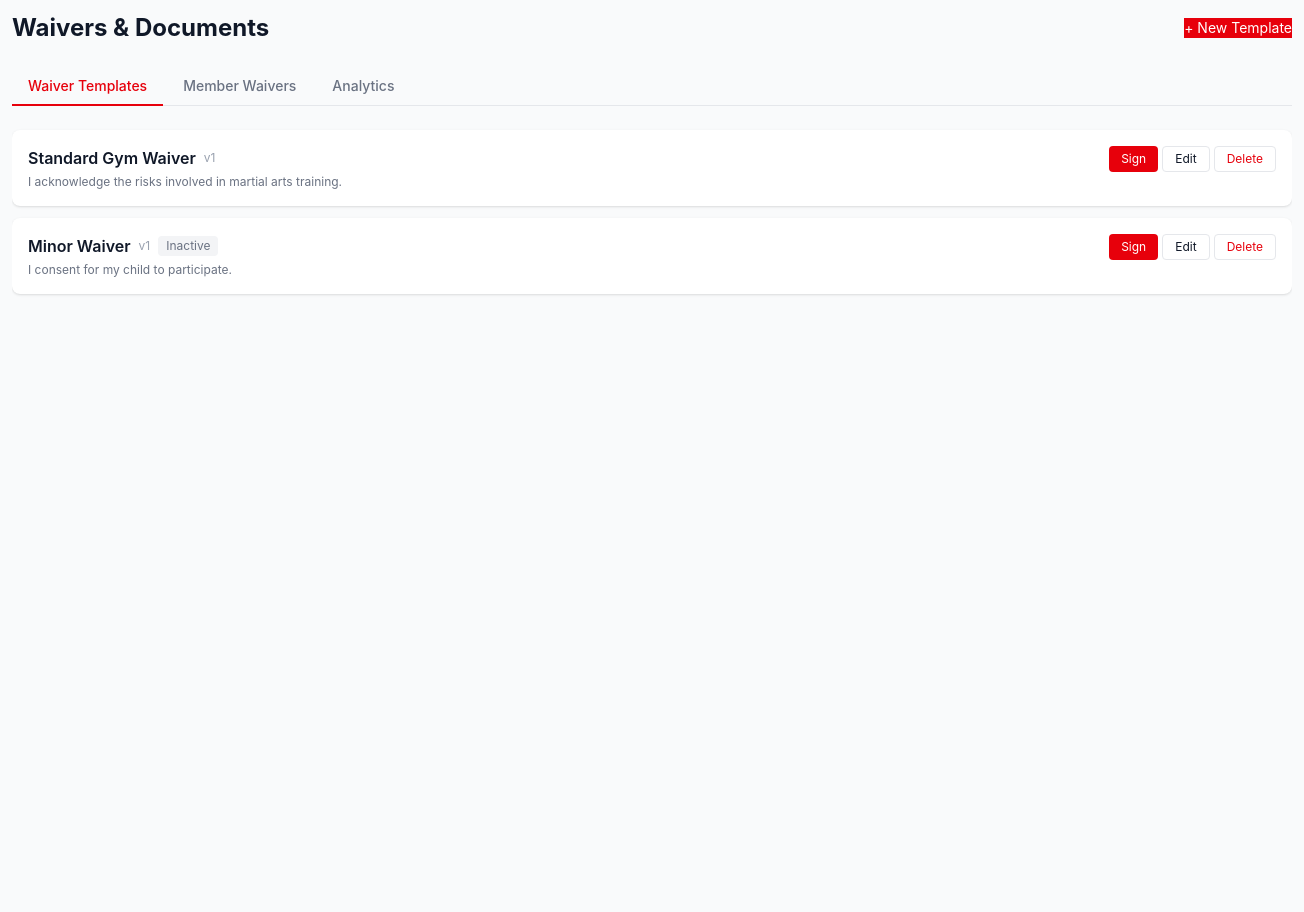
Scenario: Waivers Page › opens create template form on button click
The image size is (1304, 912).
Expected: the heading "Standard Gym Waiver" is shown, [28,146,196,170]
Click the button "+ New Template": [1238, 28] box [1184,18,1292,38]
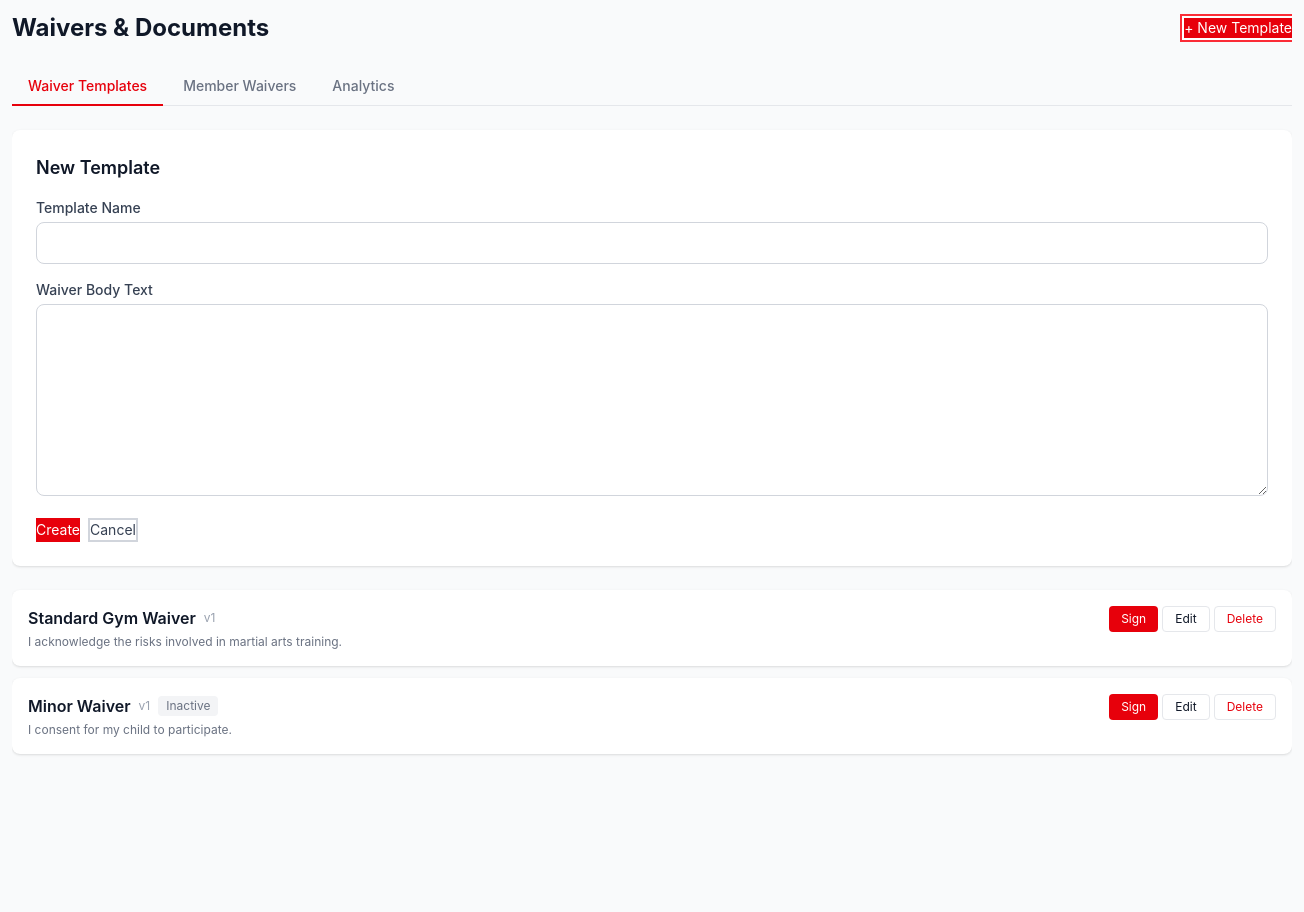
Expected: the field named "template name" is shown, [36,222,1268,264]
Expected: the text box named "waiver body text" is shown, [36,304,1268,496]
Expected: the button "Create" is shown, [36,518,80,542]
